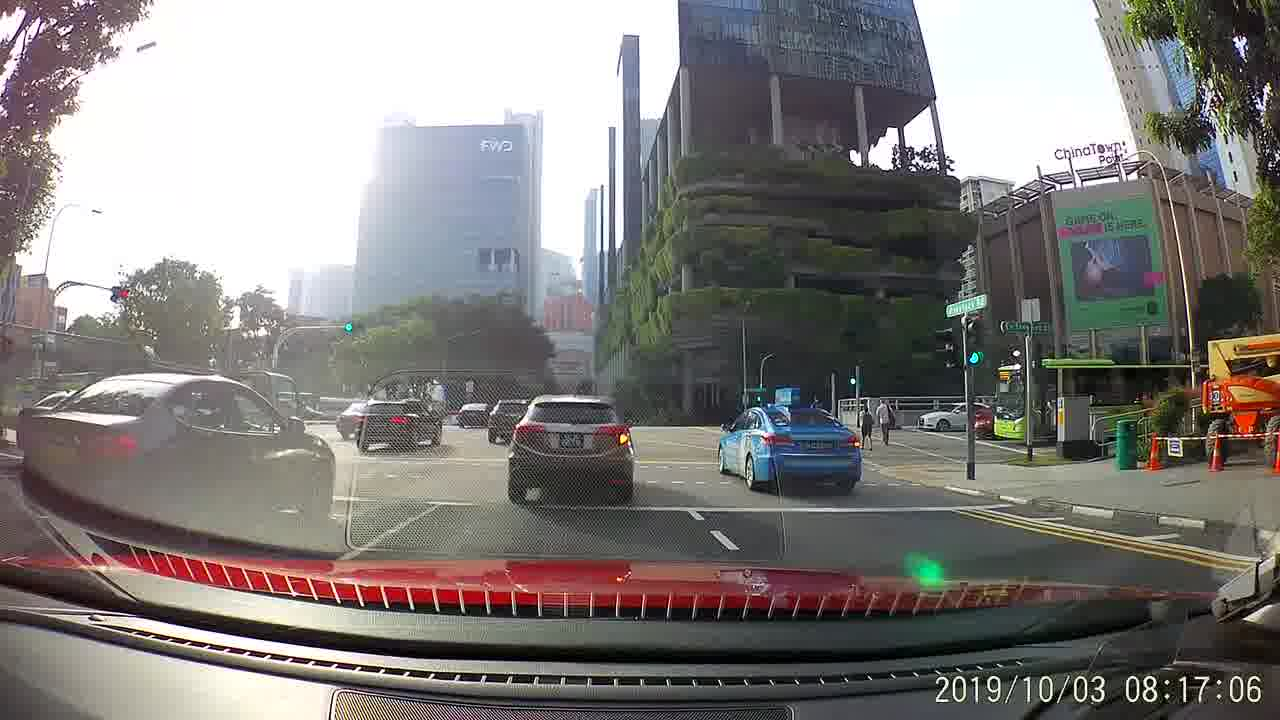bus: (991, 358, 1212, 449)
car: (24, 366, 334, 533), (714, 383, 861, 495), (508, 390, 636, 508), (355, 394, 441, 453), (916, 401, 992, 432), (488, 397, 532, 441), (456, 401, 492, 429)
